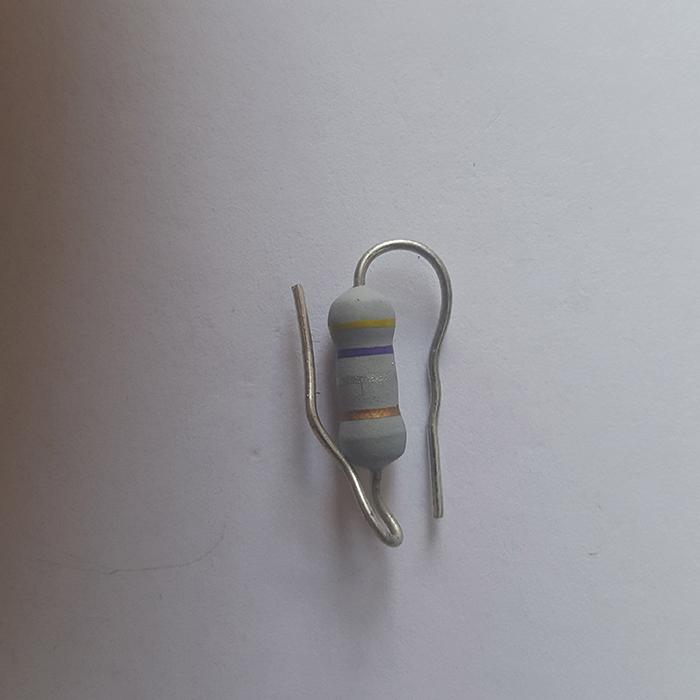resistor: (328, 285, 407, 472)
